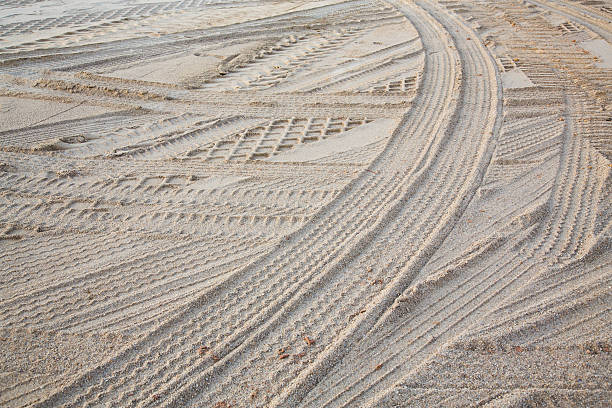vehicle_track: (0, 0, 611, 407), (349, 94, 606, 377), (464, 142, 608, 346), (0, 0, 379, 71), (0, 236, 268, 329), (267, 25, 420, 92), (203, 28, 363, 90), (302, 348, 417, 405), (0, 111, 157, 148), (528, 0, 611, 40), (343, 172, 398, 205), (247, 359, 253, 364)
